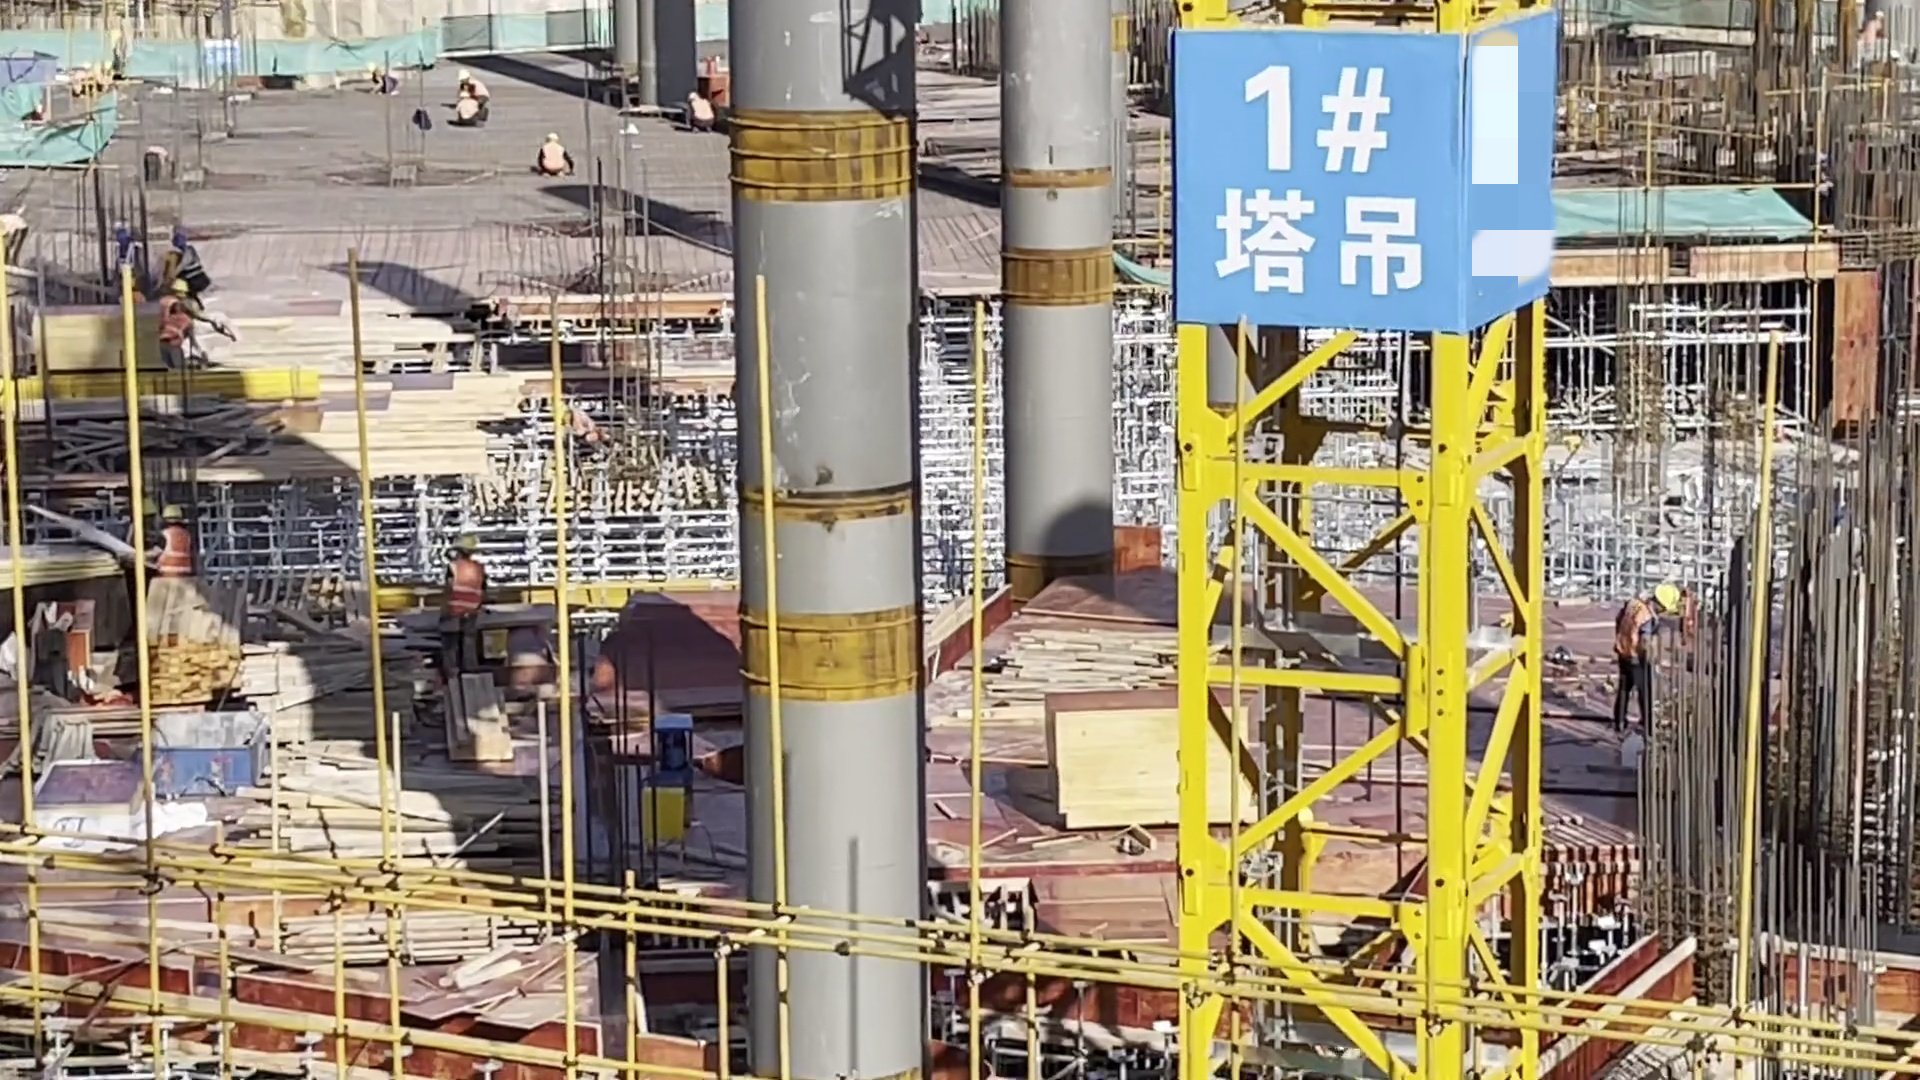helmet: (1653, 578, 1685, 622), (453, 533, 480, 562), (158, 502, 186, 529), (115, 225, 130, 248), (170, 273, 186, 293), (172, 231, 187, 245), (688, 91, 704, 103), (547, 132, 561, 145), (457, 69, 472, 79)
person: (1612, 579, 1680, 744), (447, 530, 491, 680), (166, 229, 218, 302), (155, 505, 200, 588), (161, 299, 204, 379), (537, 126, 580, 190), (114, 222, 144, 297), (448, 91, 487, 141), (454, 65, 491, 109), (683, 93, 722, 133), (366, 70, 406, 102)
vest: (1613, 595, 1661, 681), (445, 560, 491, 626), (157, 529, 194, 581), (161, 312, 191, 356), (176, 244, 204, 285), (540, 144, 570, 181), (116, 246, 140, 281)
